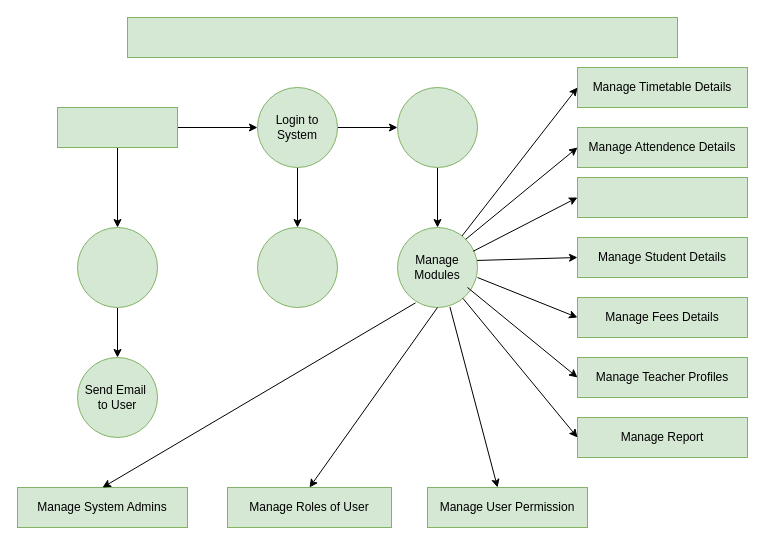
Some shapes in this 765 by 545 pixel diagram are drawn without their labels. Each missing label, with the centre of its shape:
"Admin" goes at (117,127).
"Check Credentials" goes at (297,267).
"Check Roles of Access" goes at (437,127).
"Forgot password" goes at (117,267).
"Manage Class Details" goes at (662,197).
"Student Informmation System" goes at (402,37).
